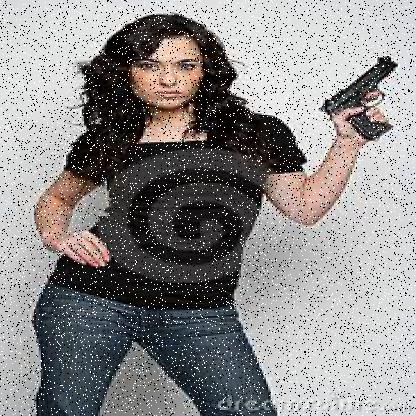pistol: (323, 53, 398, 139)
